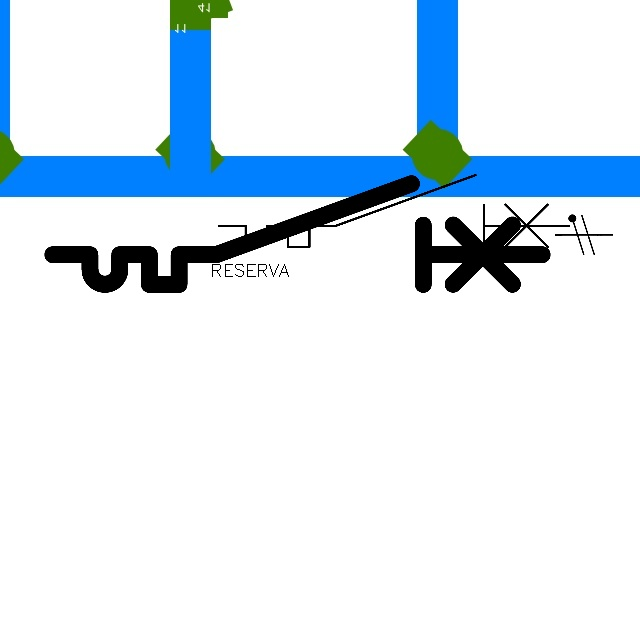interruptor_termomagnetico: (40, 171, 554, 297), (210, 166, 578, 256)
